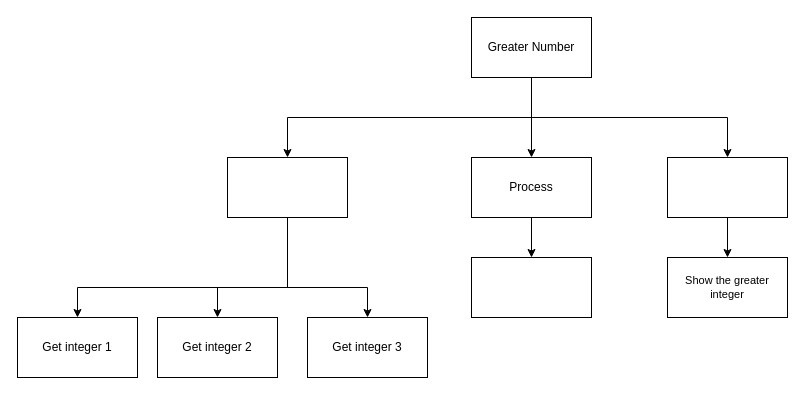
The diagram is 805 pixels wide and 395 high, and some of its shapes have lost their labels. Each missing label, with the box of its shape:
Checks which integer is greater than the others: (470, 256, 592, 318)
Input: (226, 156, 348, 218)
Output: (666, 156, 788, 218)
